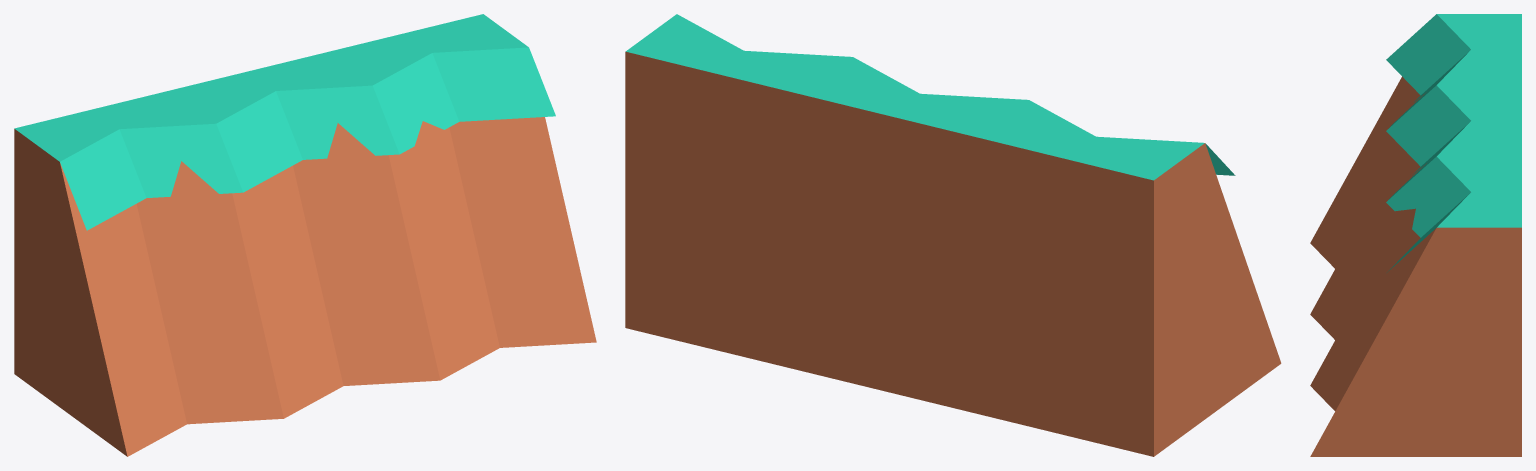
File: cliff_half_rock.fbx
3 renders of one model, left to right at view 1: azimuth 30°, elevation 25°; view 2: azimuth 150°, elevation 25°; view 3: azimuth 270°, elevation 25°, orthographic. The views are drawn at different scales.
Parts seen in each view (by area): view 1: cliff_half_rock; view 2: cliff_half_rock; view 3: cliff_half_rock.
Part boxes in pixels (x1=…): cliff_half_rock: x1=14, y1=14, x2=596, y2=456; cliff_half_rock: x1=625, y1=14, x2=1281, y2=456; cliff_half_rock: x1=1310, y1=14, x2=1521, y2=456.
Bounding box in the file's own units: 10 × 5 × 4.19.
